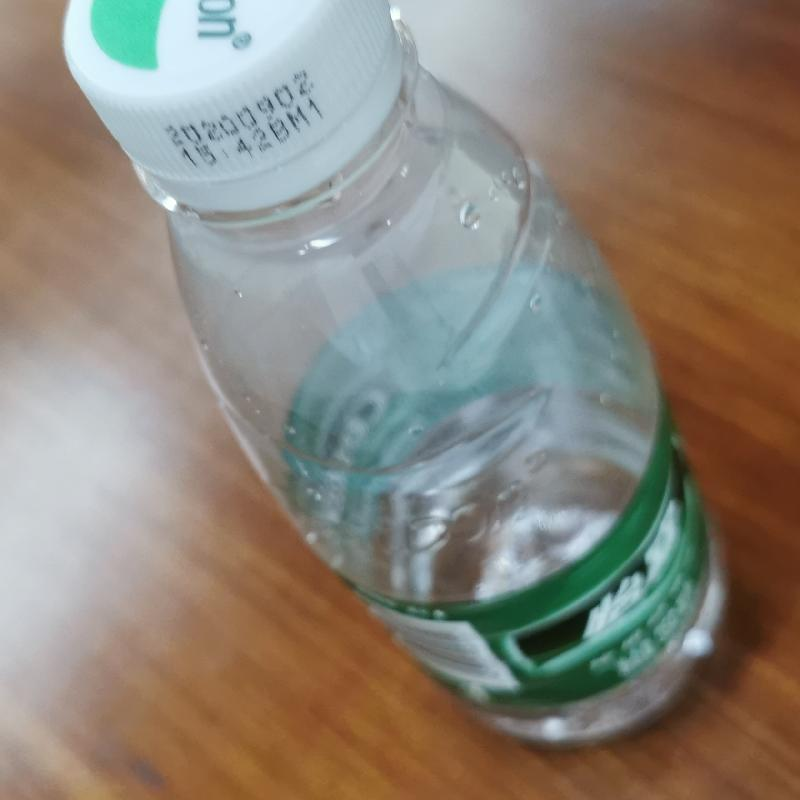bottles: (55, 0, 729, 767)
